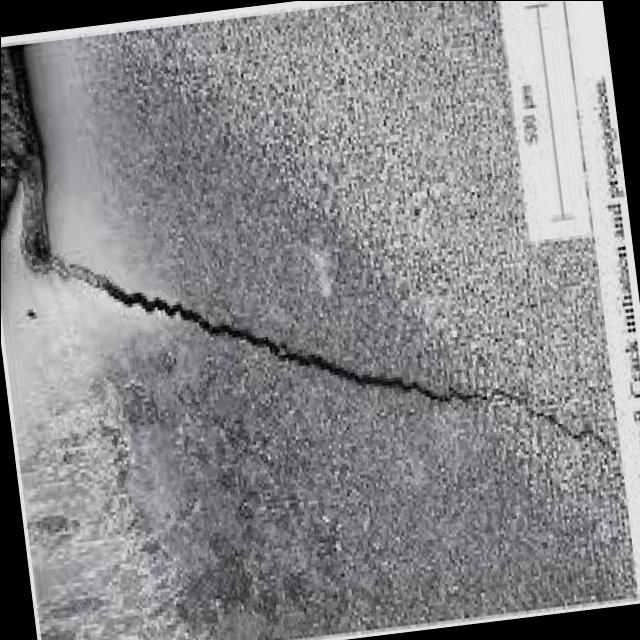defect: (34, 239, 614, 460)
